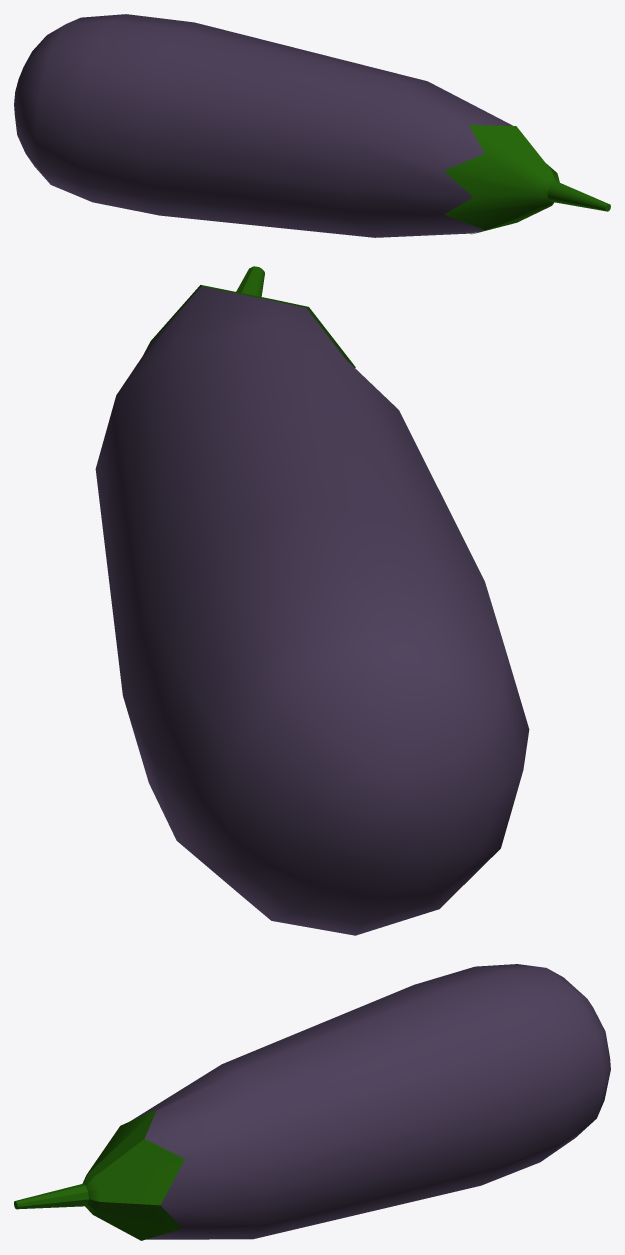
Rendered from Brinjal.fbx.
3 views of the same model, one above another, from view 1: azimuth 30°, elevation 25°; view 2: azimuth 150°, elevation 25°; view 3: azimuth 270°, elevation 25° (orthographic). The views are drawn at different scales.
Parts seen in each view (by area): view 1: Brinjal_body1, Brinjal_stem; view 2: Brinjal_body1, Brinjal_stem; view 3: Brinjal_body1, Brinjal_stem.
Part boxes in pixels (x1,y1,x2,y2): Brinjal_body1: (14,14,512,237); Brinjal_stem: (444,125,610,234); Brinjal_body1: (95,286,529,935); Brinjal_stem: (143,266,355,367); Brinjal_body1: (131,964,610,1239); Brinjal_stem: (14,1109,184,1240).
Bounding box in the file's own units: 17.28 × 8.23 × 23.2.
